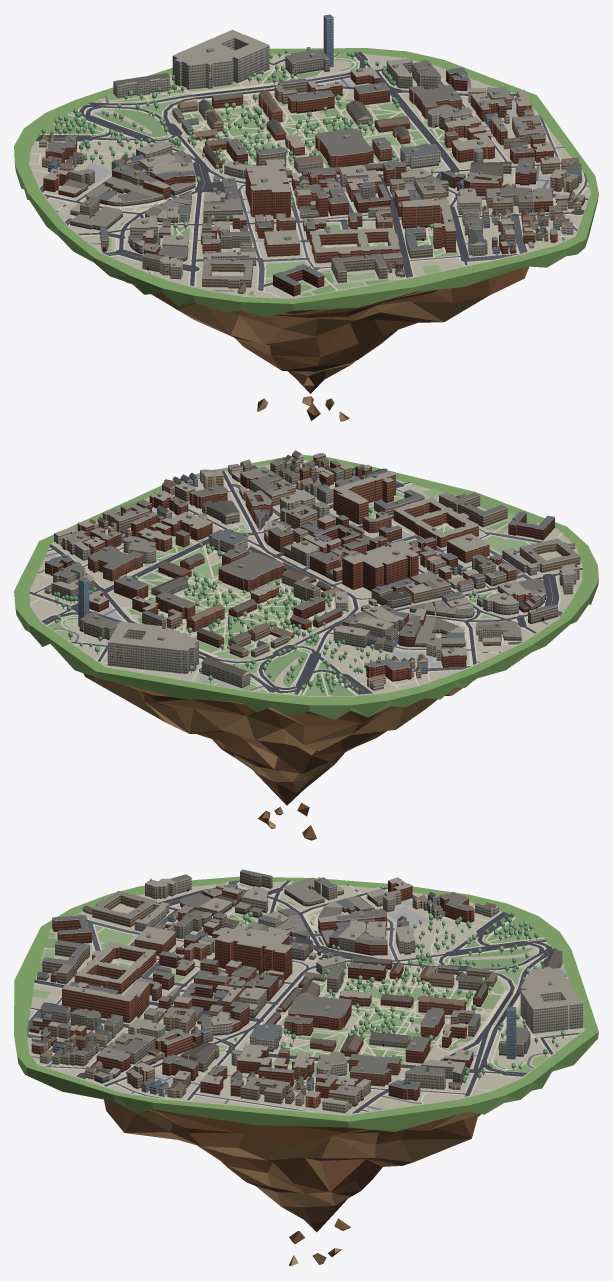
The model's file is segment-place-harsq.glb.
3 views of the same model, one above another, from view 1: azimuth 30°, elevation 25°; view 2: azimuth 150°, elevation 25°; view 3: azimuth 270°, elevation 25° (orthographic). The views are drawn at different scales.
Visible parts, largest first — view 1: Masonry, foliage and streets, Stone institutional elevations, Brick walk-up elevations, Island turf, Island earth and rock, Clapboard house elevations, Street-level storefronts; view 2: Masonry, foliage and streets, Stone institutional elevations, Brick walk-up elevations, Island turf, Island earth and rock, Clapboard house elevations, Street-level storefronts; view 3: Masonry, foliage and streets, Brick walk-up elevations, Island earth and rock, Stone institutional elevations, Island turf, Clapboard house elevations, Street-level storefronts, Glass curtain wall.
Part boxes in pixels (<box>): Masonry, foliage and streets: <box>29,14,590,299</box>; Stone institutional elevations: <box>43,38,557,279</box>; Brick walk-up elevations: <box>58,71,584,296</box>; Island turf: <box>14,48,598,317</box>; Island earth and rock: <box>125,266,528,421</box>; Clapboard house elevations: <box>39,91,581,294</box>; Street-level storefronts: <box>58,66,584,261</box>; Masonry, foliage and streets: <box>29,450,582,696</box>; Stone institutional elevations: <box>51,455,579,688</box>; Brick walk-up elevations: <box>45,461,580,658</box>; Island turf: <box>14,455,598,719</box>; Island earth and rock: <box>83,673,476,840</box>; Clapboard house elevations: <box>45,454,575,690</box>; Street-level storefronts: <box>62,468,557,681</box>; Masonry, foliage and streets: <box>27,869,584,1115</box>; Brick walk-up elevations: <box>29,872,497,1107</box>; Island earth and rock: <box>104,1099,480,1266</box>; Stone institutional elevations: <box>31,878,583,1098</box>; Island turf: <box>14,876,598,1131</box>; Clapboard house elevations: <box>39,895,498,1113</box>; Street-level storefronts: <box>94,880,530,1106</box>; Glass curtain wall: <box>506,1008,516,1059</box>.
Bounding box in the file's own units: 0.8804 × 0.5094 × 0.8884.
Materials: 8 (5 with a texture image).
